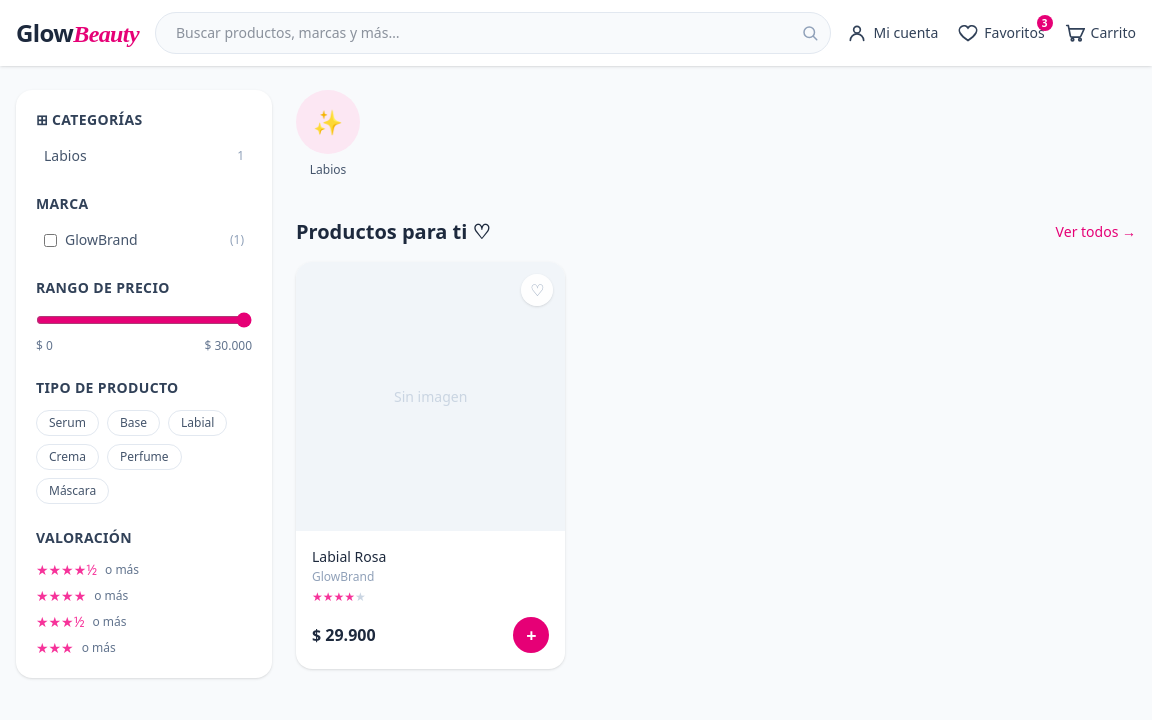
Test: CatalogPage › muestra mensaje cuando ningún producto coincide con los filtros
Expected: the heading "Labial Rosa" is shown, [312,547,386,566]
# Act – buscar algo que no existe
Type "zzz-no-existe" into the field with placeholder "Buscar productos, marcas y más…".
click(493, 33); type("zzz-no-existe")  # box [155,12,832,54]
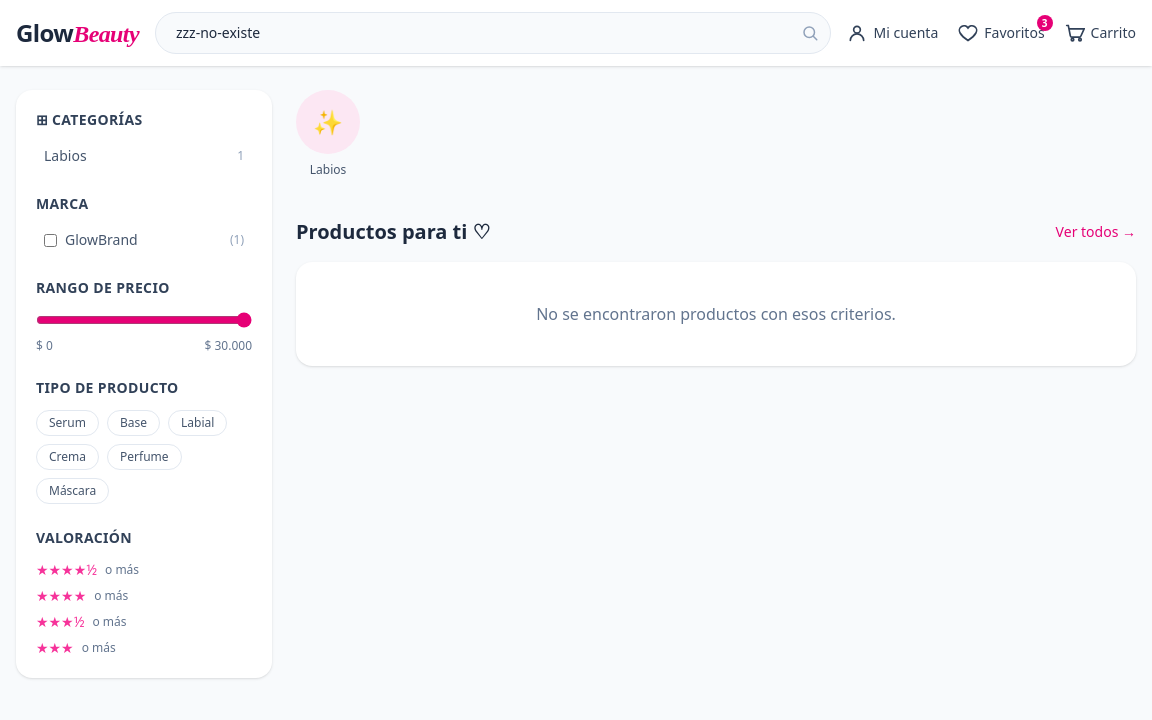
Expected: the text "No se encontraron productos con esos criterios." is shown, [296,262,1136,366]
